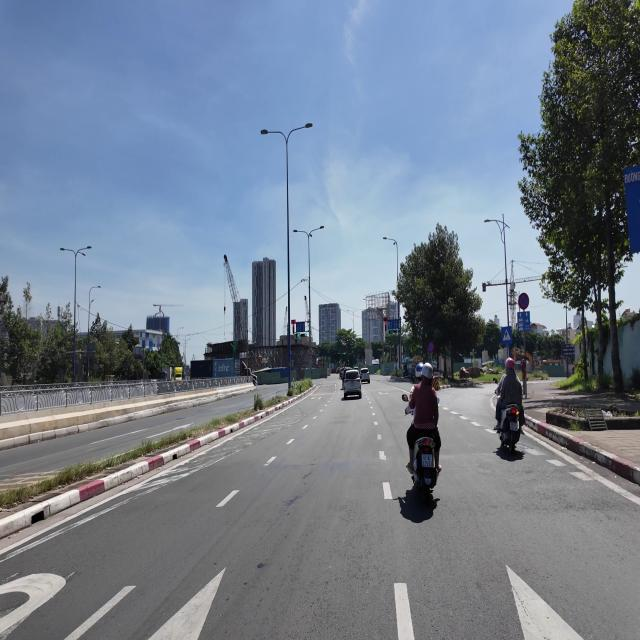car: (343, 369, 361, 398), (360, 368, 370, 383)
motorcycle: (499, 405, 521, 452), (402, 395, 408, 402)
